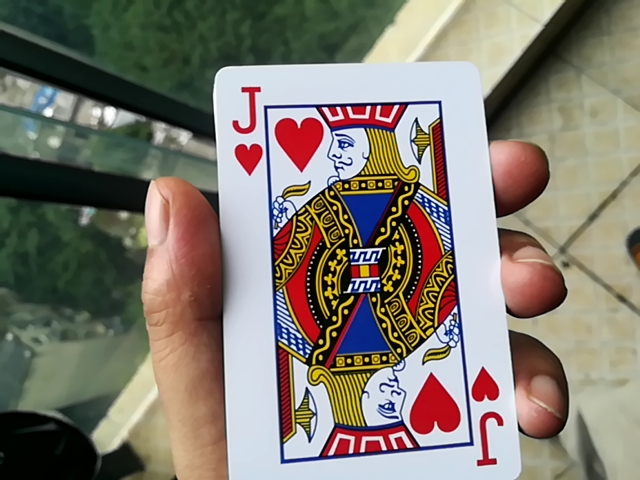hx j: (199, 47, 522, 480)
